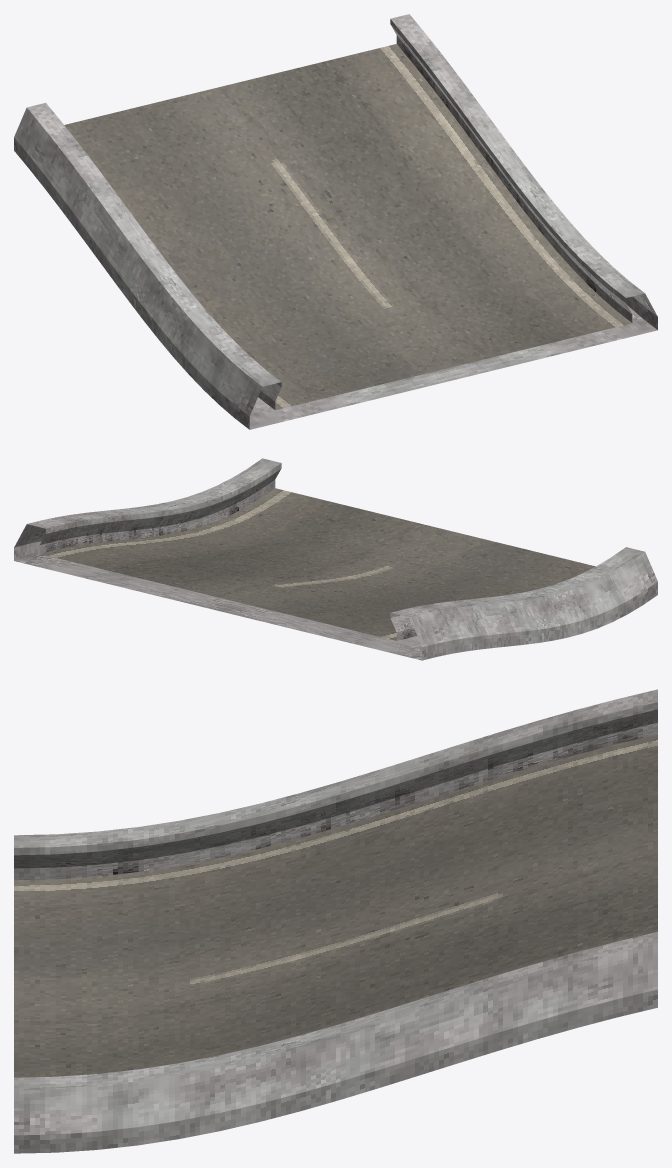
Rendered from road-Straight-Flat-BiSlopeUp-Up1-Center-Size1.glb.
3 views of the same model, one above another, from view 1: azimuth 30°, elevation 25°; view 2: azimuth 150°, elevation 25°; view 3: azimuth 270°, elevation 25° (orthographic). The views are drawn at different scales.
Parts seen in each view (by area): view 1: road-Straight-Flat-BiSlopeUp-Up1-Center-Size1; view 2: road-Straight-Flat-BiSlopeUp-Up1-Center-Size1; view 3: road-Straight-Flat-BiSlopeUp-Up1-Center-Size1.
Boxes of the visible parts, <box> form: road-Straight-Flat-BiSlopeUp-Up1-Center-Size1: <box>14,14,657,429</box>; road-Straight-Flat-BiSlopeUp-Up1-Center-Size1: <box>14,458,657,660</box>; road-Straight-Flat-BiSlopeUp-Up1-Center-Size1: <box>14,689,657,1153</box>.
Size of the model in its own units: 1 by 0.3438 by 1.
Materials: 2 (2 with a texture image).
